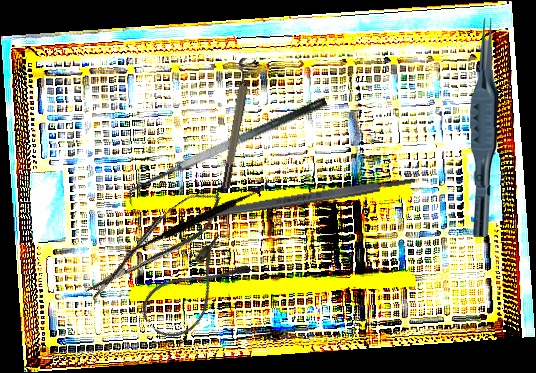Cannula: (133, 231, 255, 349)
Fixation Ring: (214, 56, 257, 190)
Micro Scissor: (74, 181, 233, 308)
Scalpel Handle: (210, 174, 416, 220)
Spatula Surgical: (120, 135, 272, 309), (121, 96, 335, 209)
Tissue Forceps: (468, 18, 502, 237)
